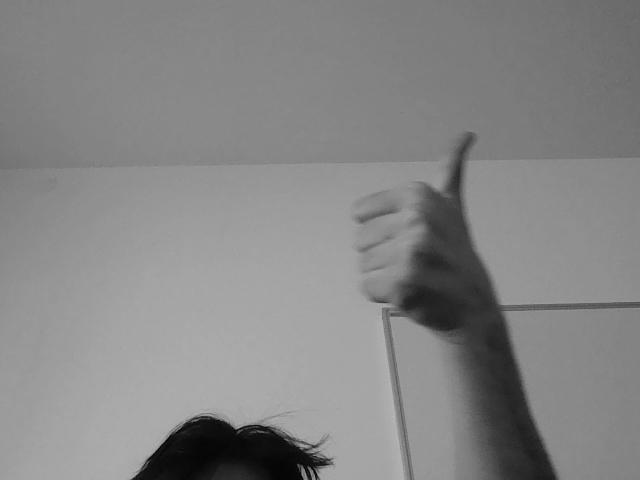good: (340, 119, 495, 335)
